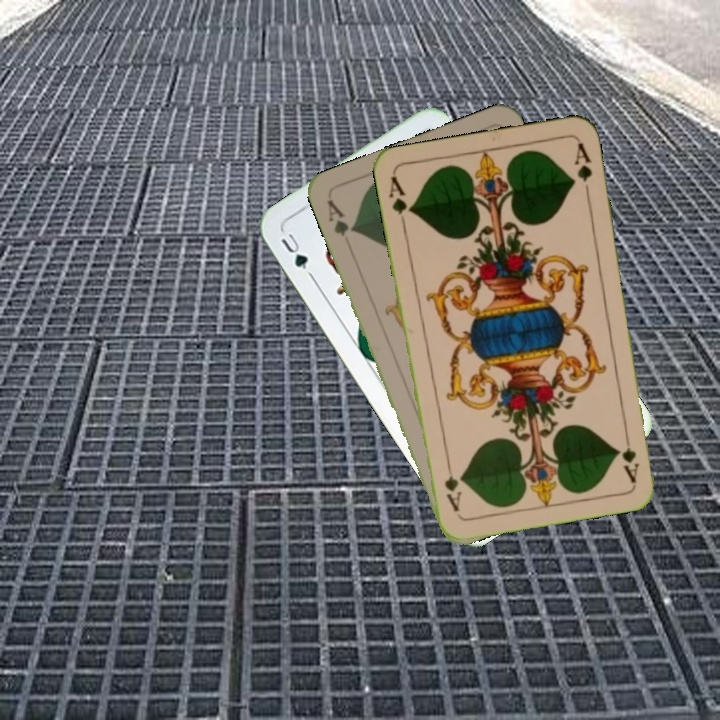GA: (384, 172, 415, 230), (323, 195, 358, 239), (618, 426, 641, 485)
GU: (276, 228, 316, 280)
